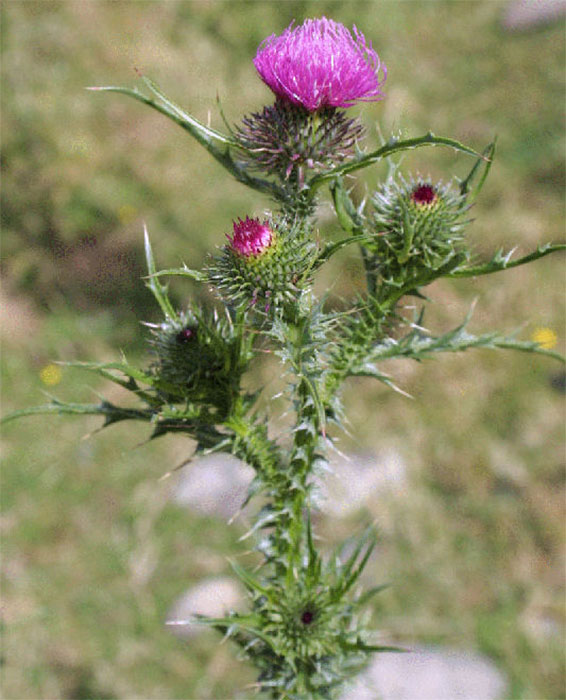thistle: (224, 13, 387, 176), (218, 208, 317, 308)
